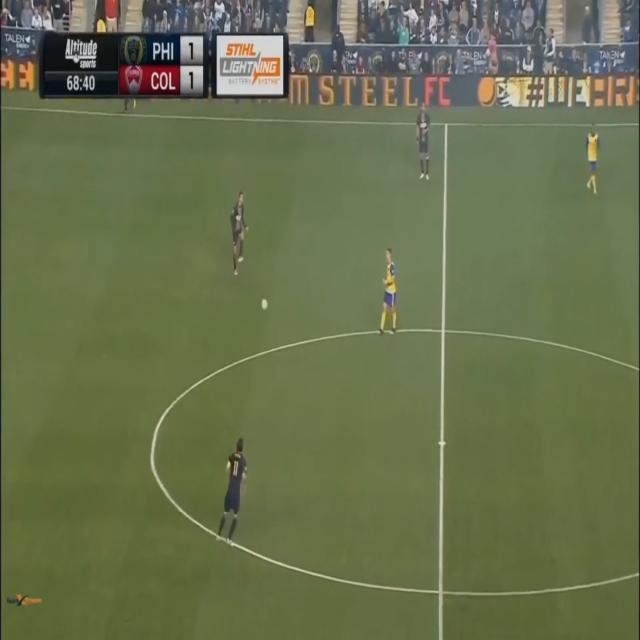football: (255, 296, 271, 310)
